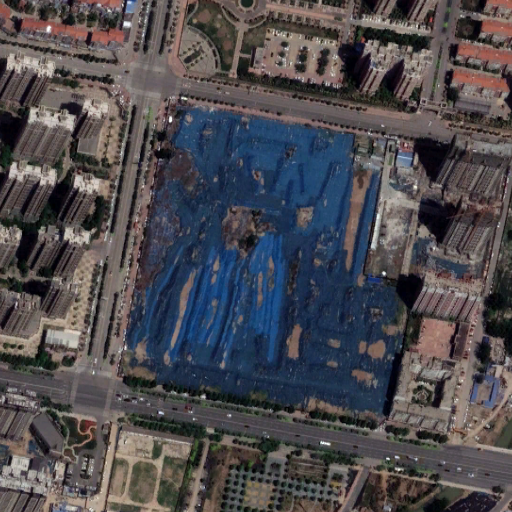cw: (117, 98, 408, 431)
